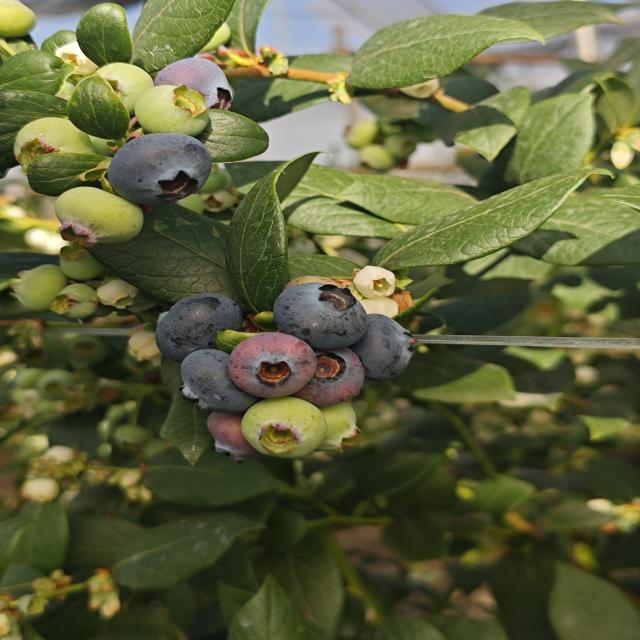ripe: (104, 131, 215, 209), (270, 280, 370, 352), (152, 291, 245, 363), (175, 345, 265, 415), (153, 53, 246, 110), (354, 315, 424, 382)
